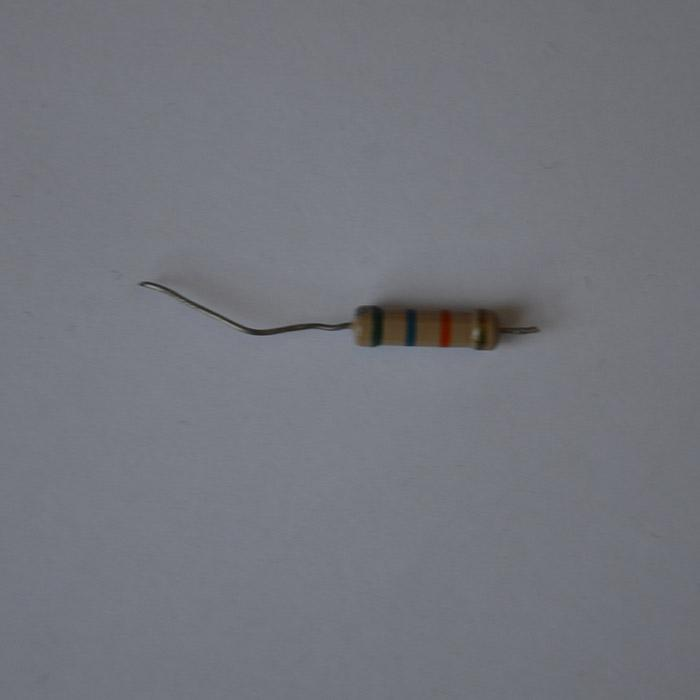resistor: (347, 303, 511, 352)
